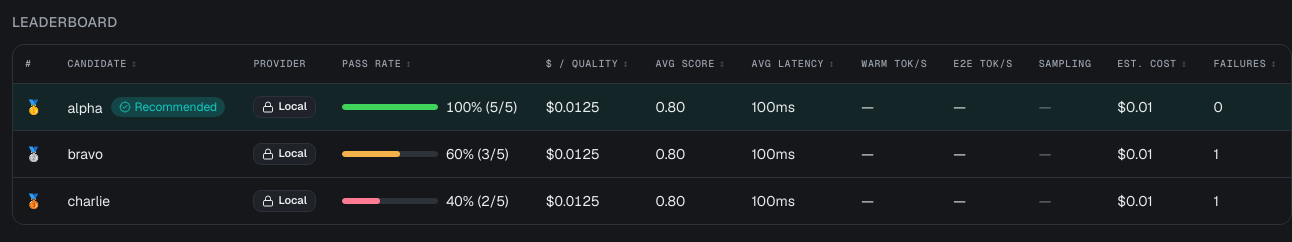
Test: medals are suppressed once the user sorts a column (the verdict order is left behind)
This screenshot has width=1292, height=242.
Check: the text "🥇" is shown, box [13,84,55,131]
Note: Sort by est. cost → medals gone, plain rank numbers.
Step 1. Click the button "Est. cost ↕" → {"x": 1152, "y": 64}, box [1117,57,1187,71]
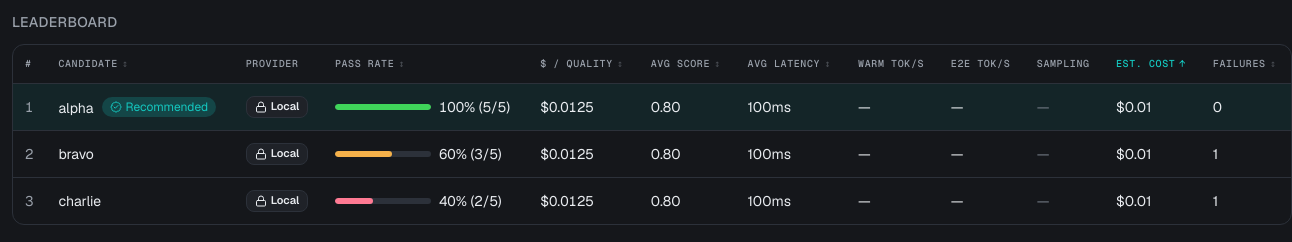
Check: the text "🥇" is gone
